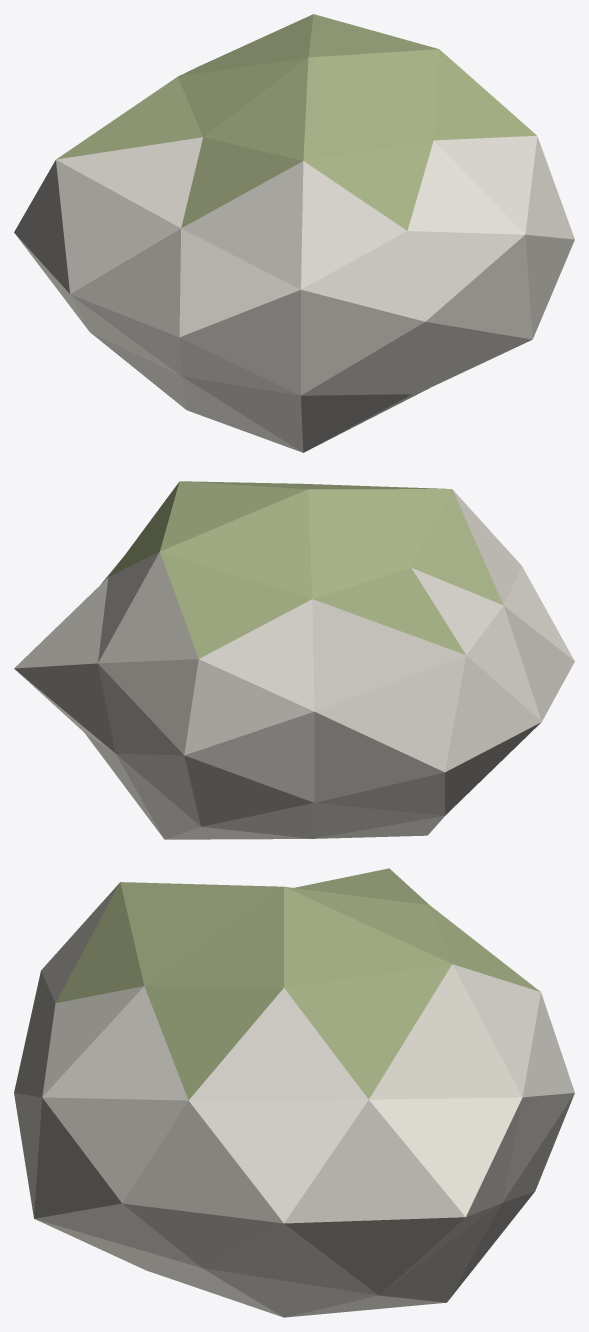
Rendered from rock.gltf.
The picture shows the model from 3 angles, top to bottom: view 1: azimuth 30°, elevation 25°; view 2: azimuth 150°, elevation 25°; view 3: azimuth 270°, elevation 25°; orthographic projection. The views are drawn at different scales.
Parts seen in each view (by area): view 1: rock; view 2: rock; view 3: rock.
Part boxes in pixels (bbox=[...]): rock: bbox=[14, 14, 574, 452]; rock: bbox=[14, 481, 574, 839]; rock: bbox=[14, 868, 574, 1317].
Size of the model in its own units: 2.04 by 1.46 by 1.83.
